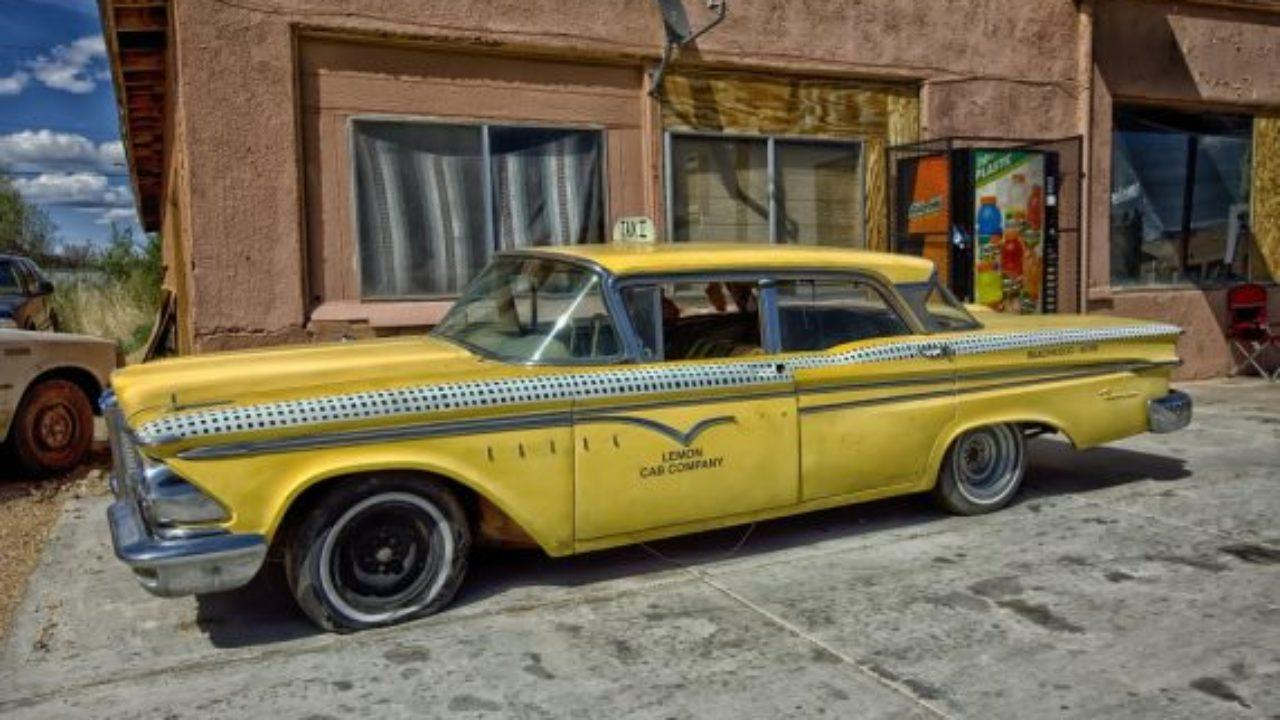taxi: (62, 214, 1229, 613)
